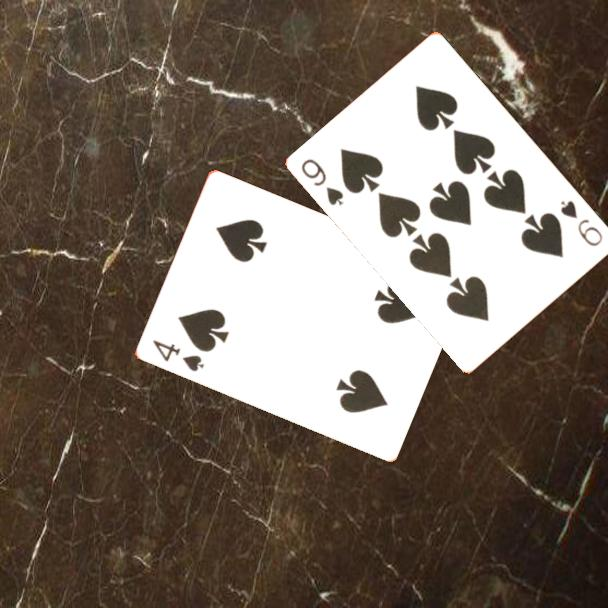s04: (149, 336, 207, 375)
s09: (298, 155, 347, 209), (557, 197, 606, 249)
